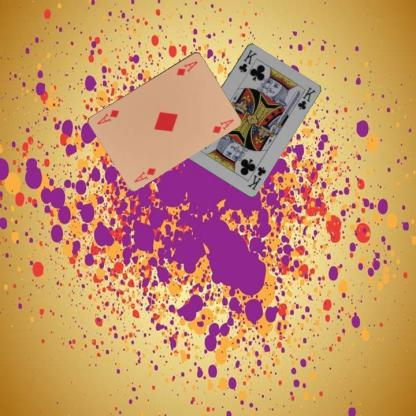Ad: (174, 58, 199, 77), (132, 165, 157, 184)
Kc: (235, 47, 258, 73), (245, 164, 267, 191)
